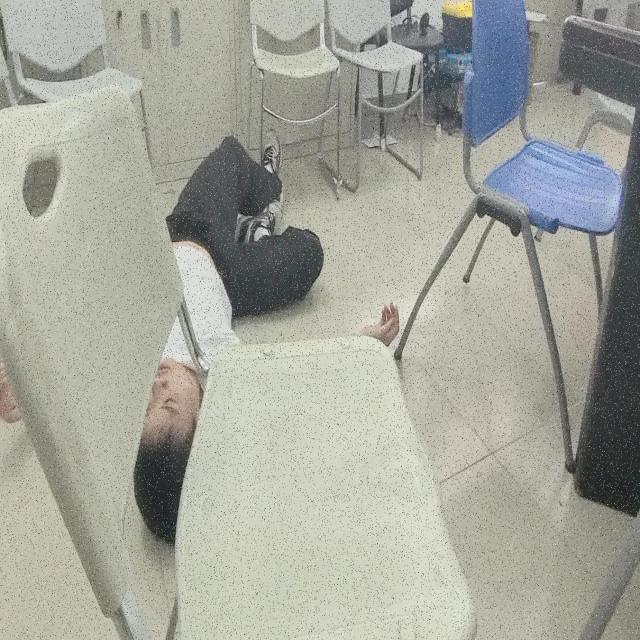fall: (1, 119, 402, 543)
